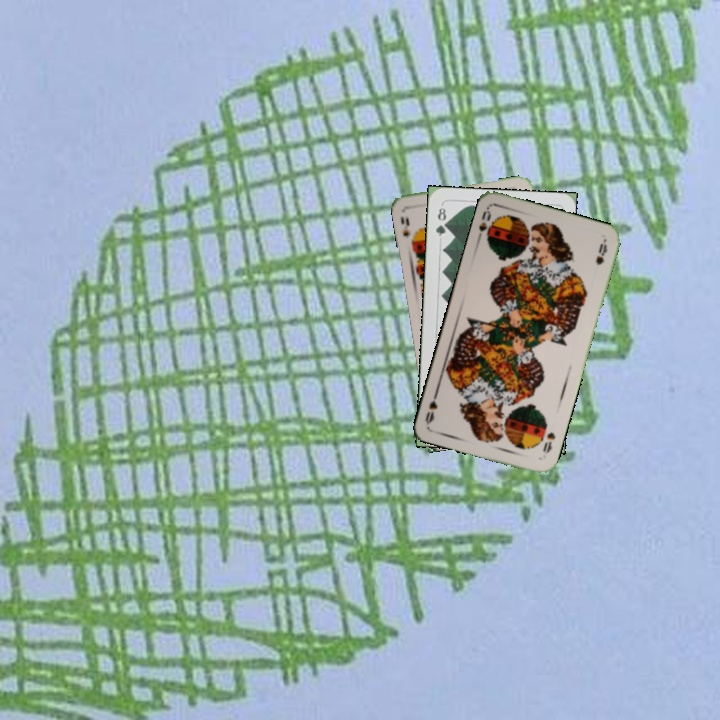G8: (431, 203, 450, 239)
S9: (396, 213, 418, 248)
SO: (473, 204, 497, 246), (539, 428, 558, 456)
